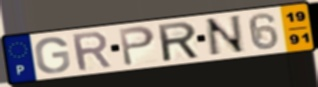6: (247, 12, 282, 52)
G: (33, 36, 72, 75)
N: (203, 14, 248, 59)
P: (117, 24, 157, 68)
R: (155, 20, 202, 64), (69, 30, 114, 73)
